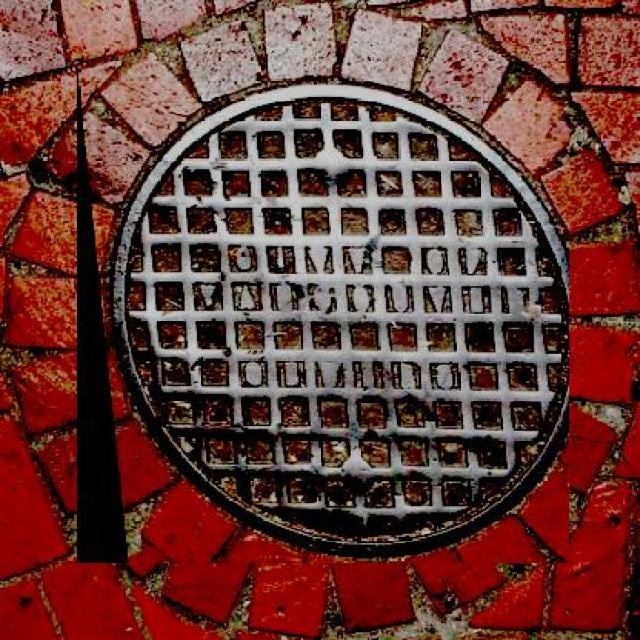Manhole: (78, 68, 570, 564)
